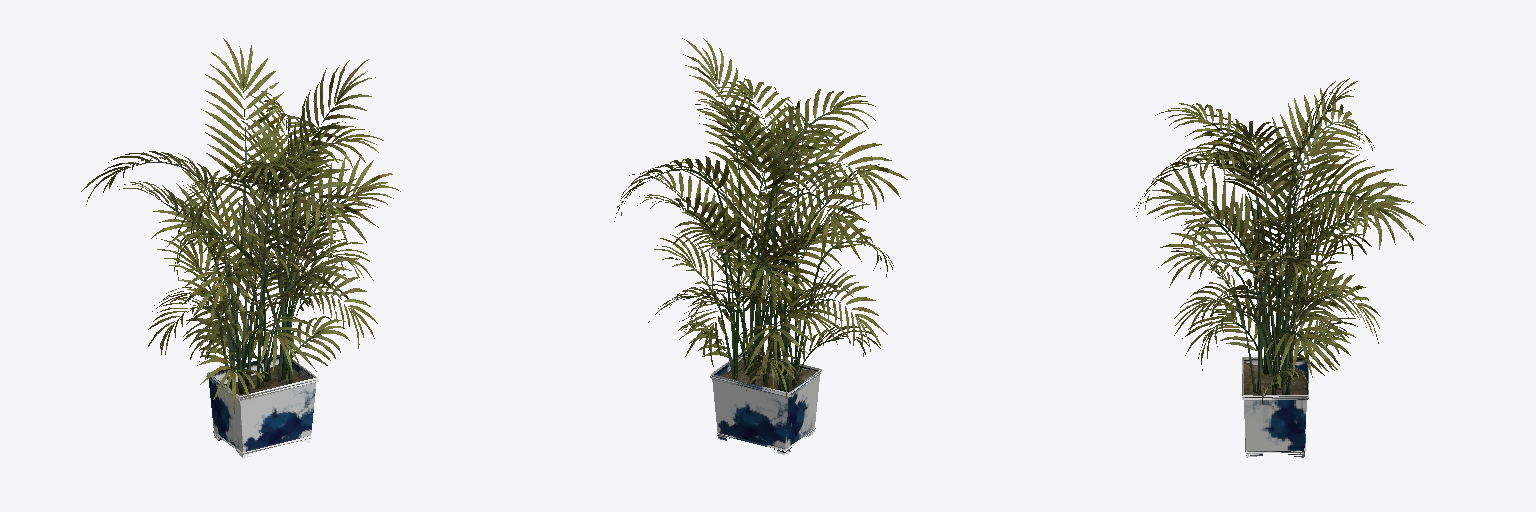
3 renders of one model, left to right at view 1: azimuth 30°, elevation 25°; view 2: azimuth 150°, elevation 25°; view 3: azimuth 270°, elevation 25°, orthographic.
Parts seen in each view (by area): view 1: solid_004, solid_001, solid_003, solid_002; view 2: solid_004, solid_001, solid_003, solid_002; view 3: solid_004, solid_003, solid_001, solid_002.
Boxes of the visible parts, x1,y1,x2,y2 form: solid_004: [81, 38, 400, 413]; solid_001: [206, 355, 318, 458]; solid_003: [136, 91, 352, 393]; solid_002: [224, 364, 307, 395]; solid_004: [614, 38, 907, 398]; solid_001: [710, 351, 821, 454]; solid_003: [647, 88, 864, 391]; solid_002: [720, 357, 815, 392]; solid_004: [1134, 78, 1425, 404]; solid_003: [1175, 119, 1368, 394]; solid_001: [1242, 357, 1308, 457]; solid_002: [1244, 362, 1306, 394].
Bounding box in the file's own units: 1.13 × 1.4 × 1.02.
Materials: 1 (1 with a texture image).